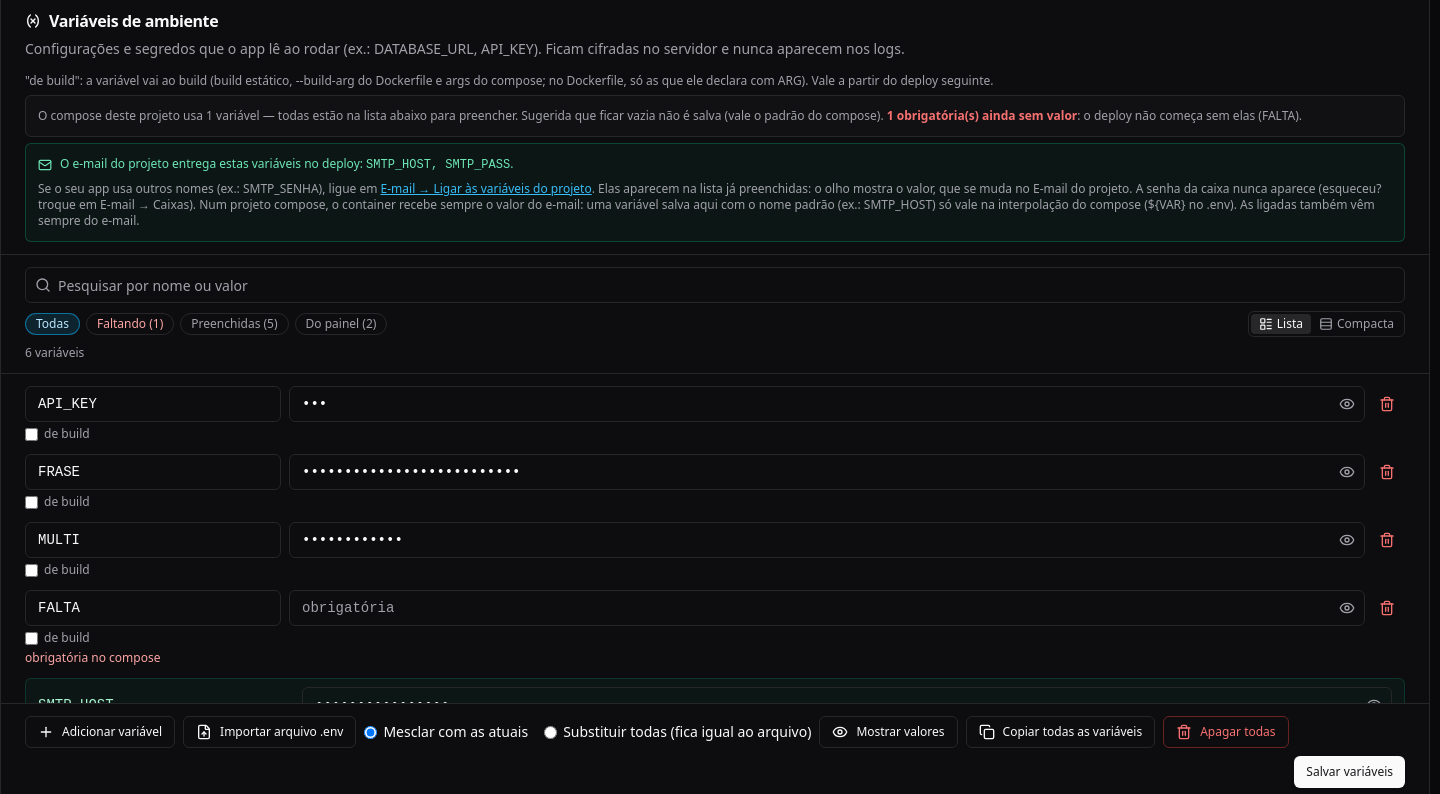
Copiar todas as variáveis › inclui rascunho e avisa
Step 1. Type "novo valor" into the password field showing "abc" → (827, 404), box [289,386,1365,422]
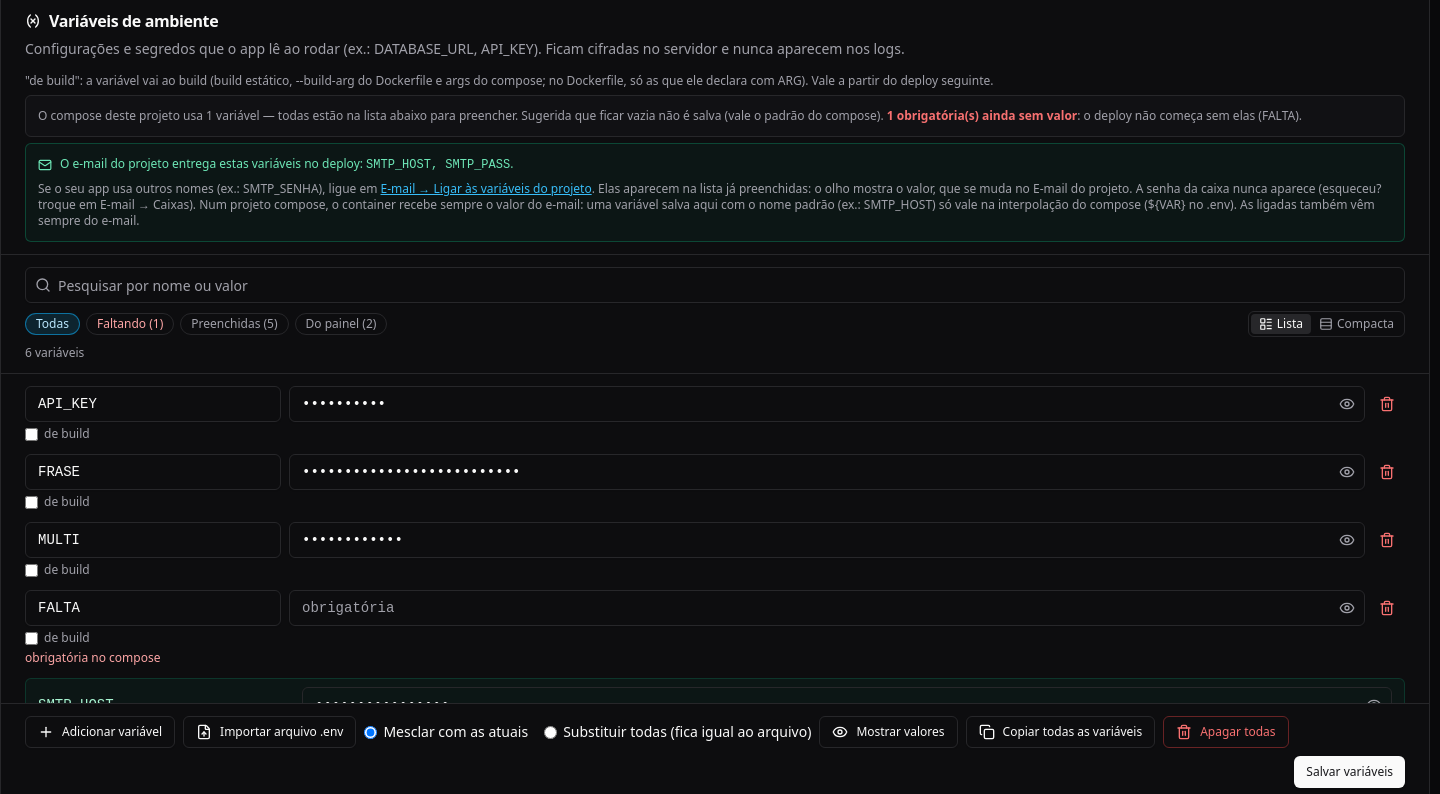
Step 2. Click the button "Copiar todas as variáveis" → click(1060, 732), box [966,716,1155,748]
(page scrolled)
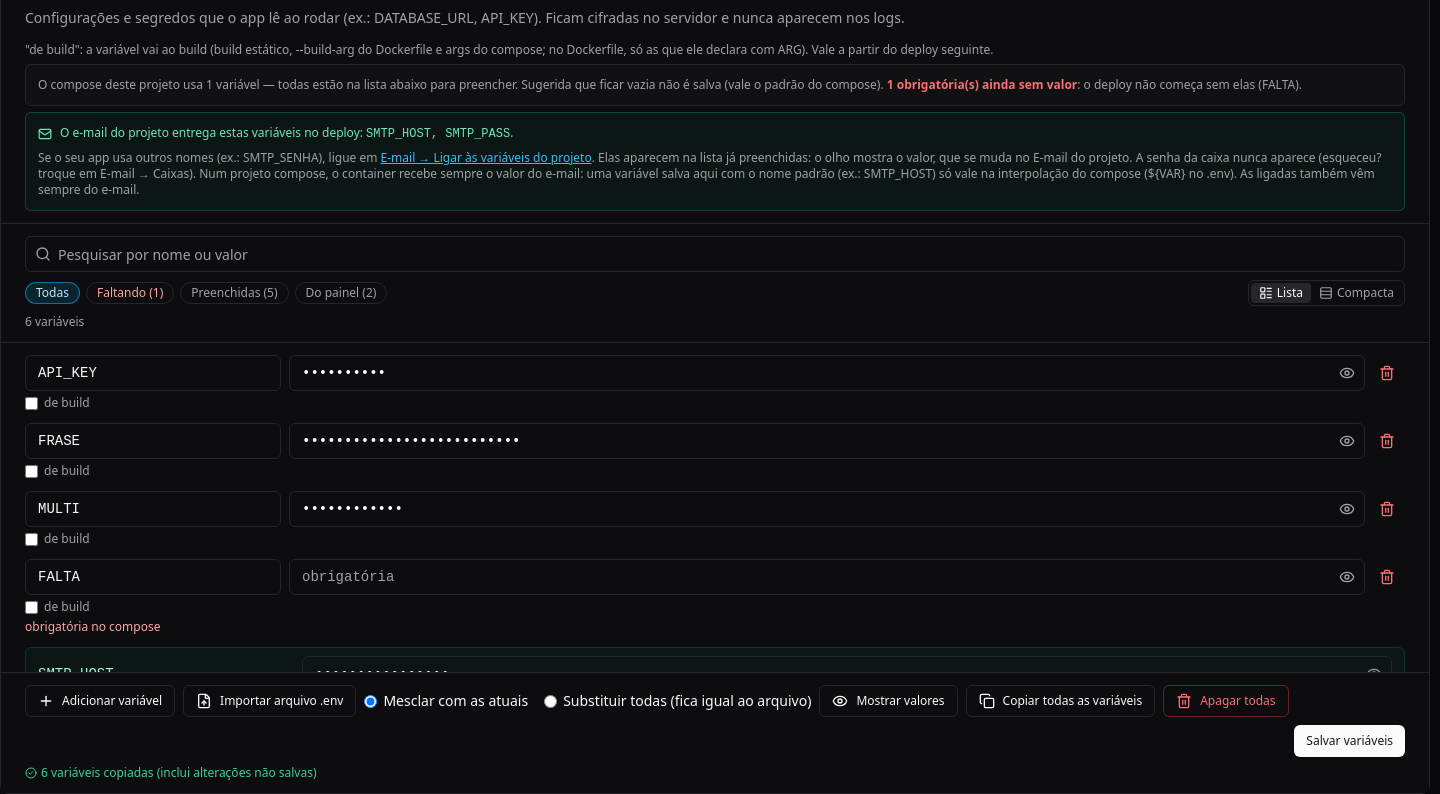
Now the text "6 variáveis copiadas (inclui alterações não salvas)" is shown, box [25,764,316,781]
